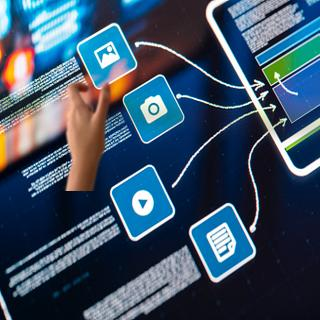Irritated: (57, 73, 119, 182)
